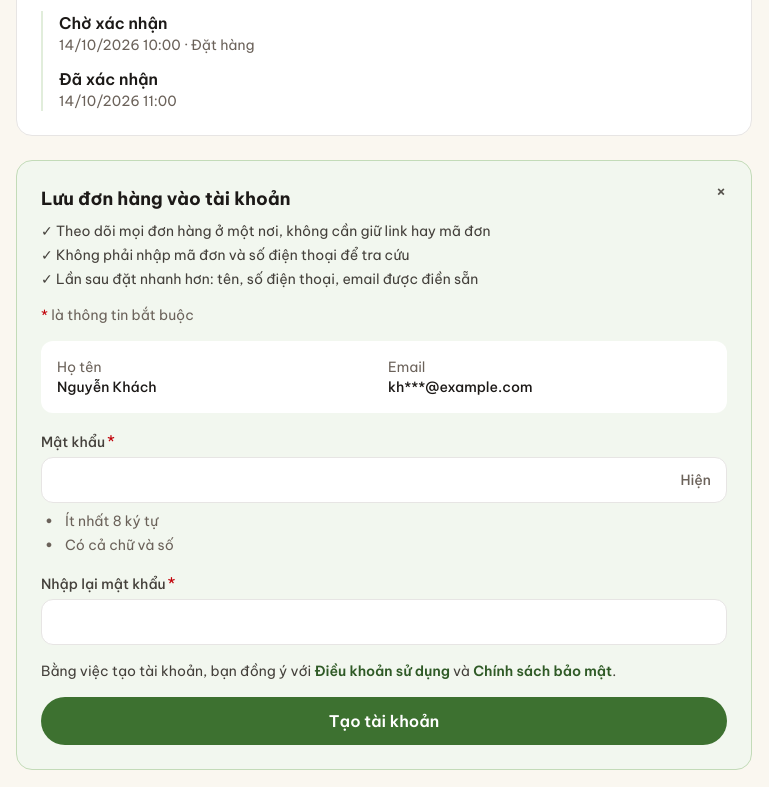
Test: TrackOrderPage › offers sign-in when the email or phone already has an account
This screenshot has width=769, height=787.
(page scrolled)
Expected: the heading "Lưu đơn hàng vào tài khoản" is shown, [41, 186, 290, 210]
In the password field labelled "Mật khẩu": x=384, y=480 [41, 456, 727, 502], type "matkhau123"
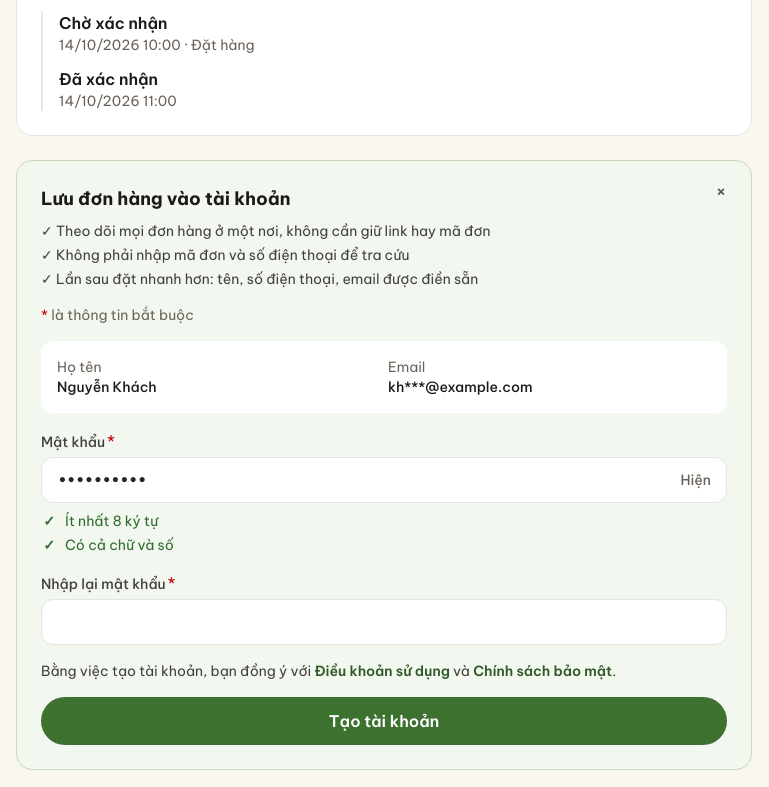
In the password field labelled "Nhập lại mật khẩu": x=384, y=622 [41, 598, 727, 644], type "matkhau123"
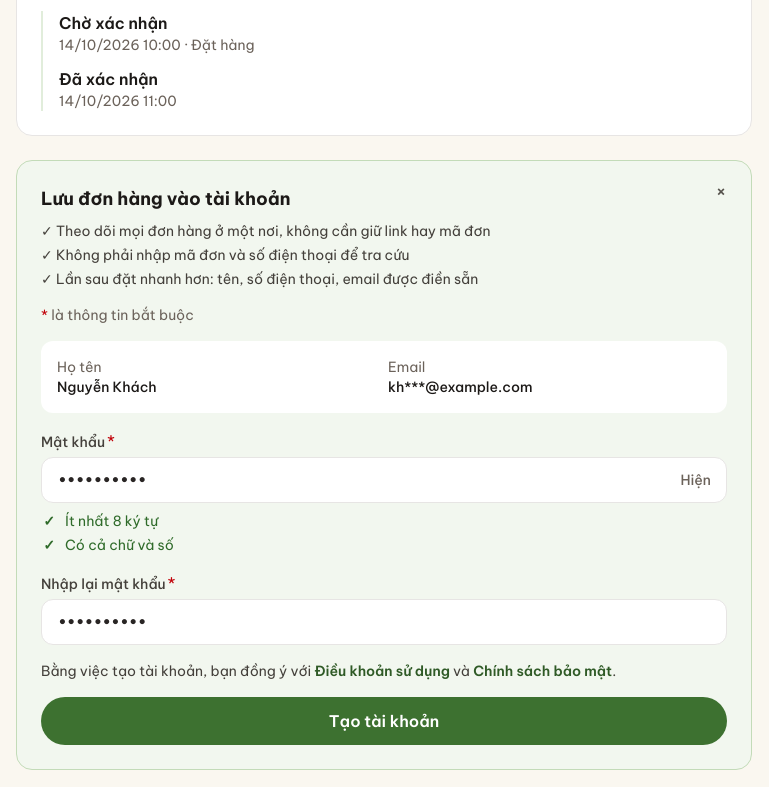
Click the button "Tạo tài khoản": x=384, y=720 [41, 696, 727, 744]
(page scrolled)
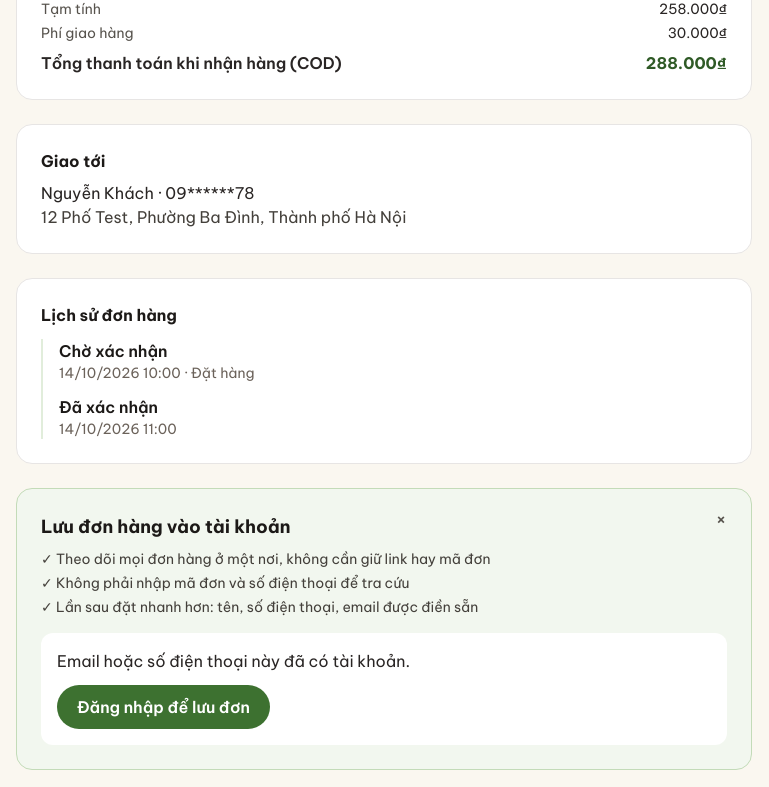
Now the text "Email hoặc số điện thoại này đã có tài khoản." is shown, box [57, 650, 410, 670]
